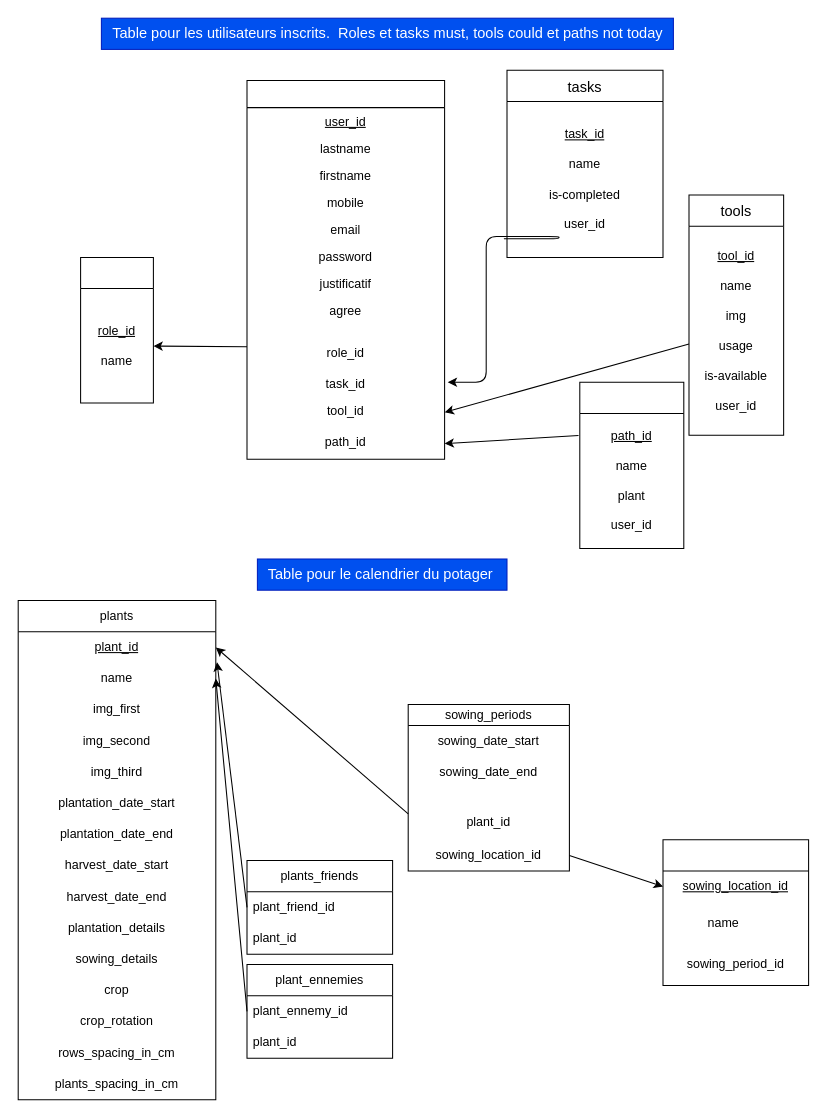
The diagram is 827 pixels wide and 1118 high, and some of its shapes have lost their labels. Each missing label, with the box of its shape:
paths: (579, 381, 684, 549)
roles: (80, 256, 153, 403)
sowing_locations: (662, 839, 809, 985)
users: (246, 80, 445, 459)
